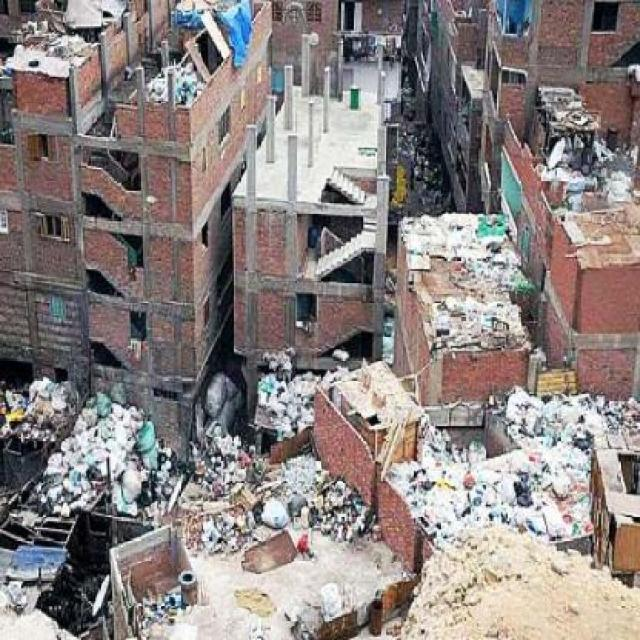garbage: (392, 413, 594, 552), (195, 394, 366, 558), (3, 379, 186, 518), (400, 212, 524, 346), (506, 374, 638, 417), (263, 342, 326, 392), (148, 55, 191, 114)
